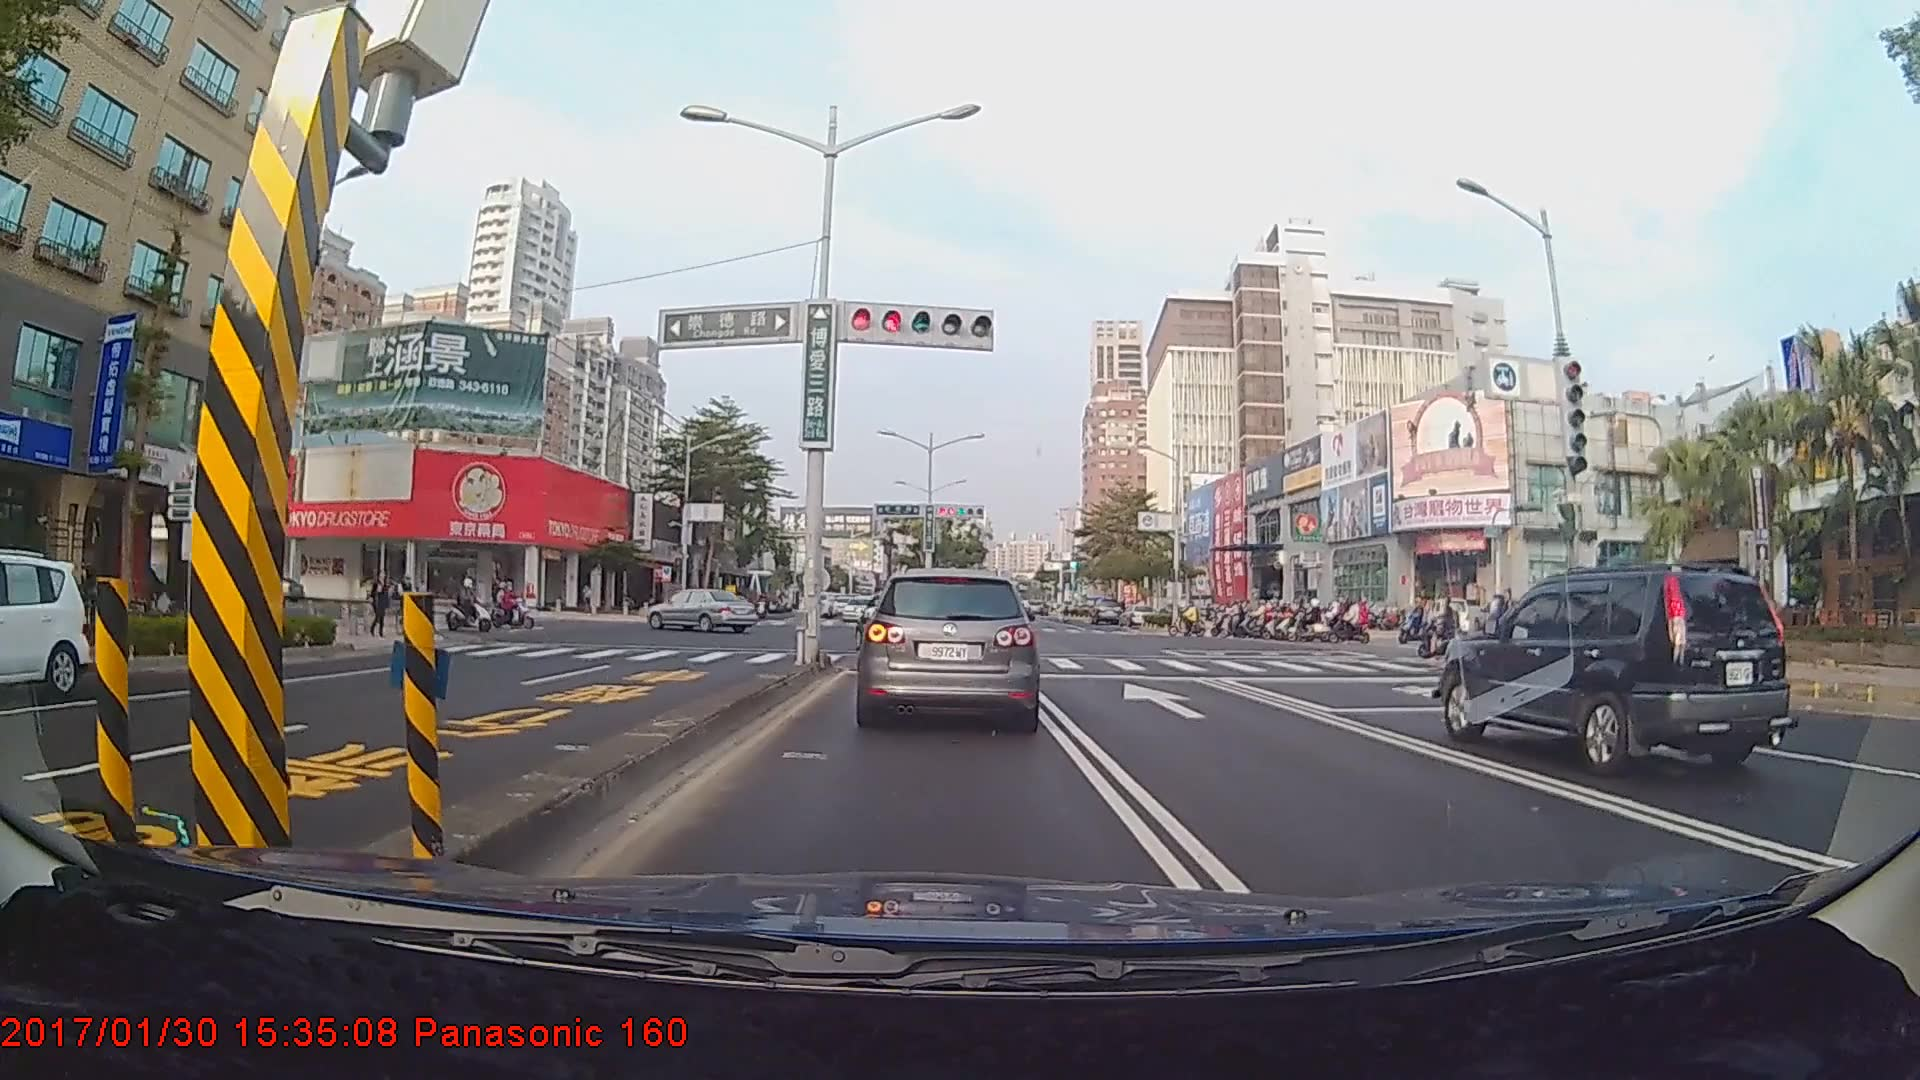pedestrian: (369, 566, 393, 642)
rider: (1420, 600, 1477, 661), (396, 566, 435, 636), (1328, 594, 1376, 645), (491, 576, 536, 629), (1303, 601, 1349, 642), (1172, 600, 1208, 637)
vehicle: (1434, 566, 1797, 780), (860, 568, 1039, 728), (0, 556, 82, 706), (645, 585, 761, 634), (1091, 597, 1122, 626)
